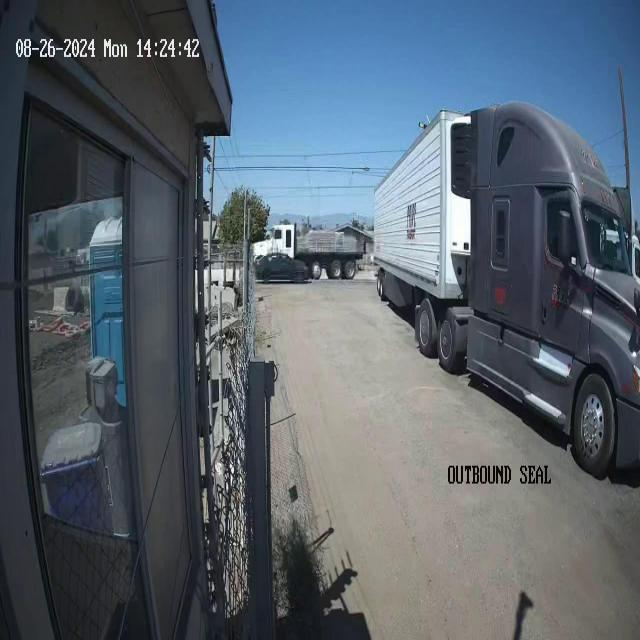TRUCK_IN: (372, 84, 640, 480)
